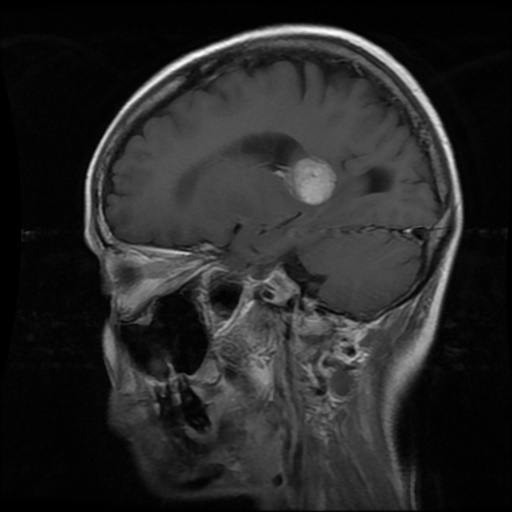meningioma: (286, 156, 337, 204)
